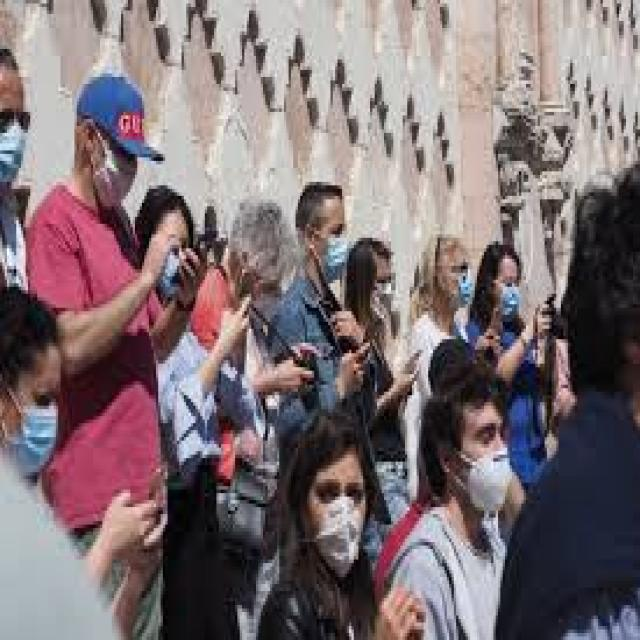cap: (72, 63, 177, 182)
